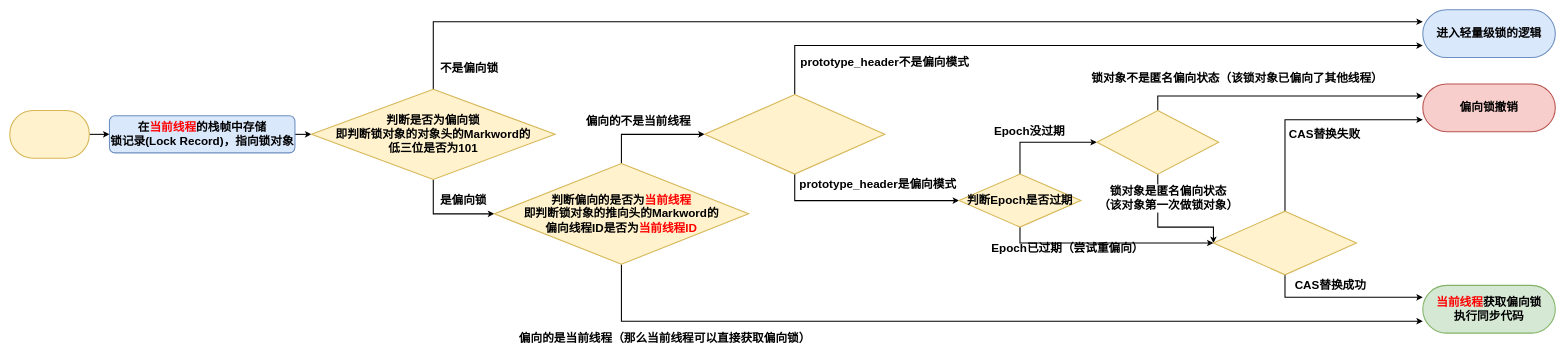
Image size: 1565x358. Some labels were removed from this diagram. Each missing label, with the centre of its shape:
"一次 CAS替换是否成功" goes at point (1285, 242).
"判断prototype_header 是否为偏向模式" goes at point (794, 134).
"判断锁对象是否为 匿名偏向状态" goes at point (1157, 142).
"当前线程 想要访问同步代码" goes at point (49, 134).
